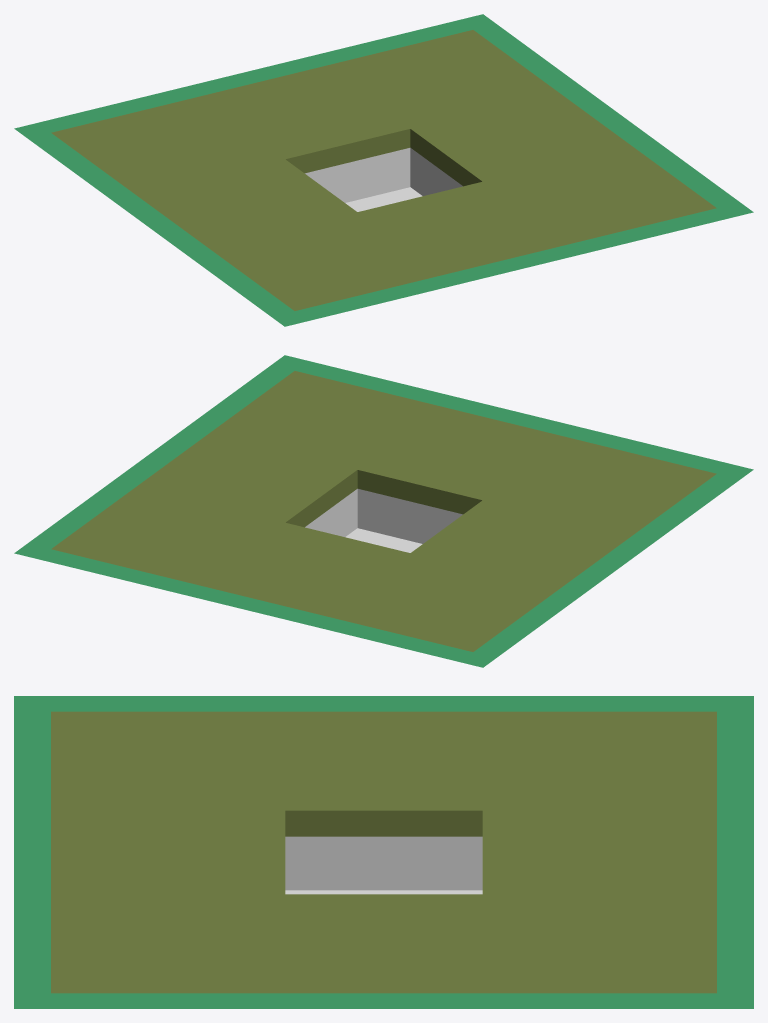
File: floor3.fbx
3 renders of one model, top to bottom at view 1: azimuth 30°, elevation 25°; view 2: azimuth 150°, elevation 25°; view 3: azimuth 270°, elevation 25°, orthographic. The views are drawn at different scales.
Visible parts, largest first — view 1: Plane; view 2: Plane; view 3: Plane.
Part boxes in pixels (<box>): Plane: <box>14,14,753,326</box>; Plane: <box>14,355,753,667</box>; Plane: <box>14,696,753,1008</box>.
Size of the model in its own units: 200 by 23.76 by 200.
